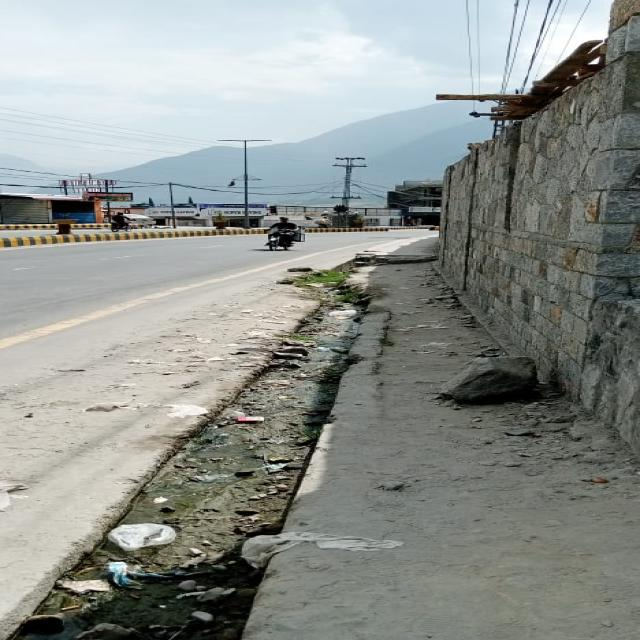Right-Turn: (306, 223, 435, 251)
